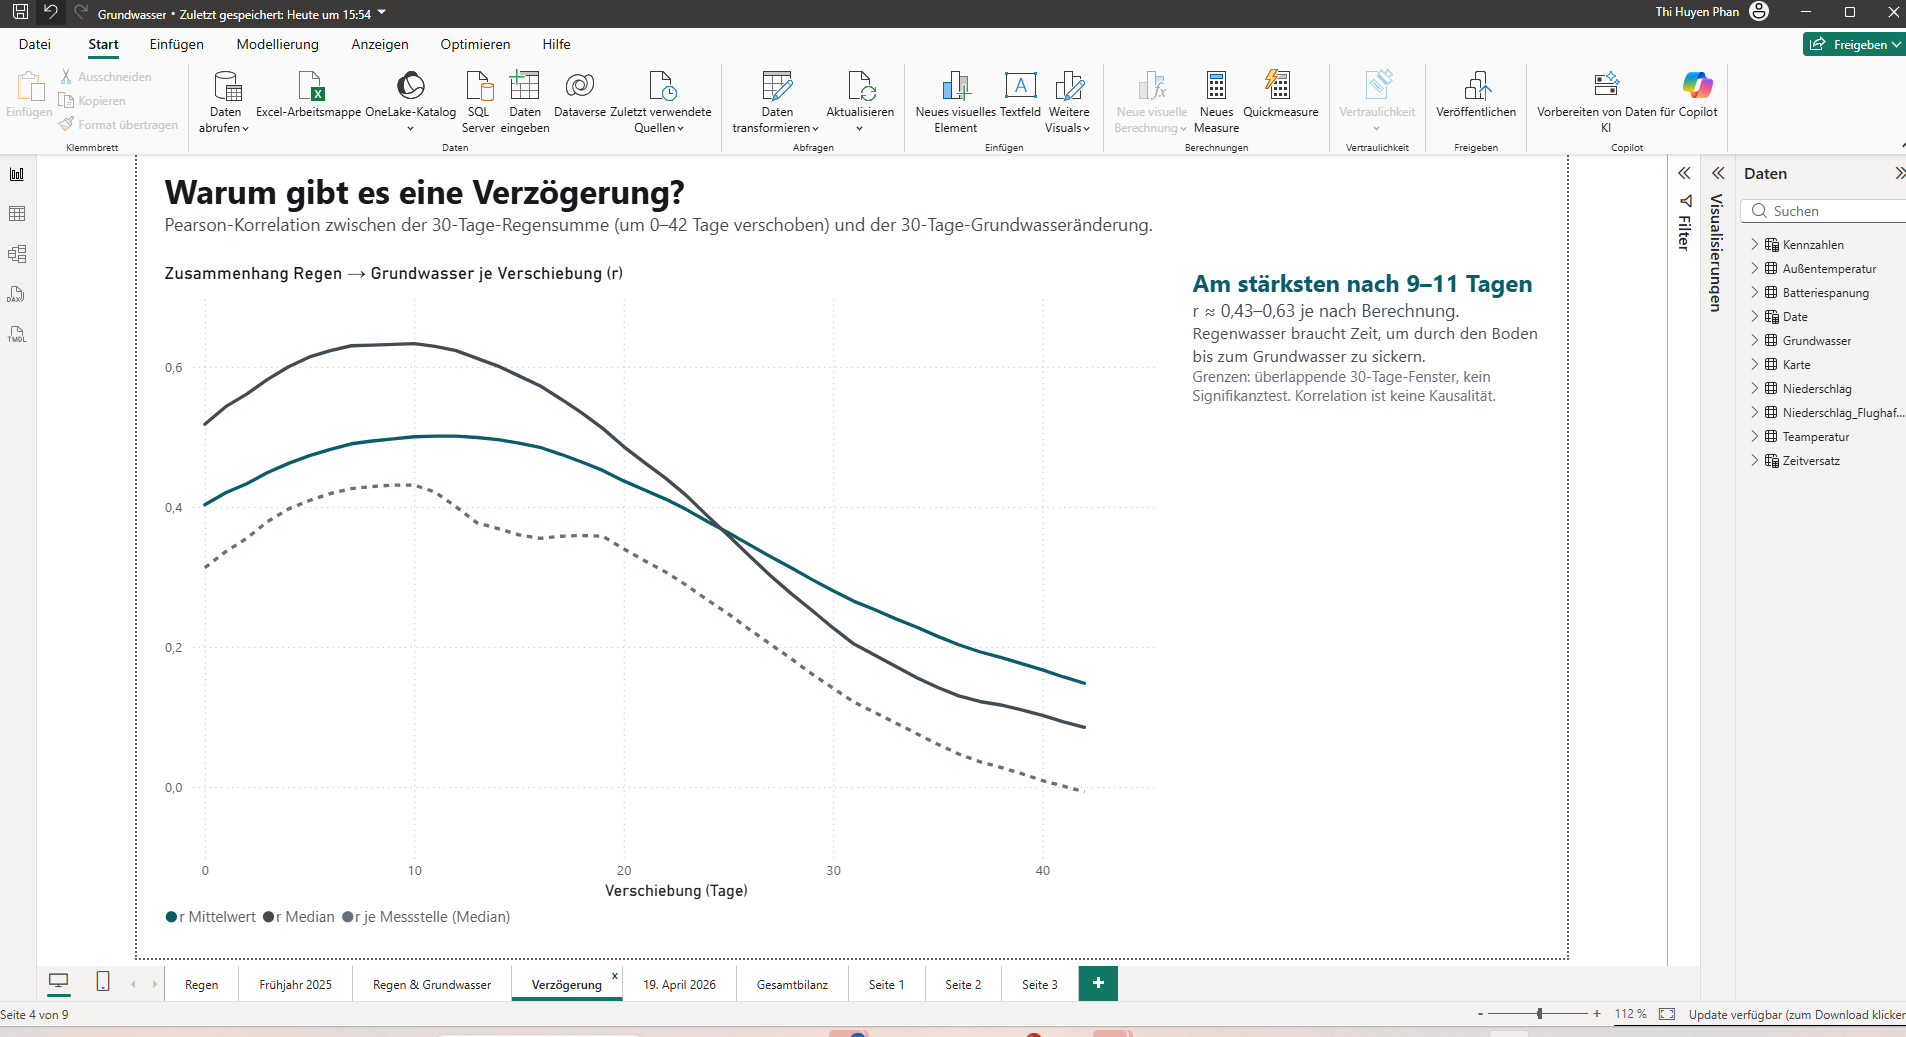

The page's visual inventory and layout, read from the dashboard file:
{"tool":"powerbi","page":{"name":"Verzögerung","canvas":[1280,720],"ordinal":3},"visuals":[{"type":"textbox","box":[20,8,1240,82],"z":0},{"type":"lineChart","title":"Zusammenhang Regen → Grundwasser je Verschiebung (r)","fields":{"Category":["Zeitversatz.Verschiebung (Tage)"],"Y":["Zeitversatz.r Mittelwert","Zeitversatz.r Median","Zeitversatz.r je Messstelle (Median)"]},"box":[20,96,900,606],"z":1000},{"type":"textbox","box":[940,96,320,600],"z":2000}]}

Visuals, with their boxes on the page's 1280x720 design canvas (x1, y1, x2, y2). These are canvas units, not pixel positions in the 1906x1037 screenshot, which may show the page scaled, cropped or inside an application window:
textbox: [x1=20, y1=8, x2=1260, y2=90]
"Zusammenhang Regen → Grundwasser je Verschiebung (r)" lineChart: [x1=20, y1=96, x2=920, y2=702]
textbox: [x1=940, y1=96, x2=1260, y2=696]
